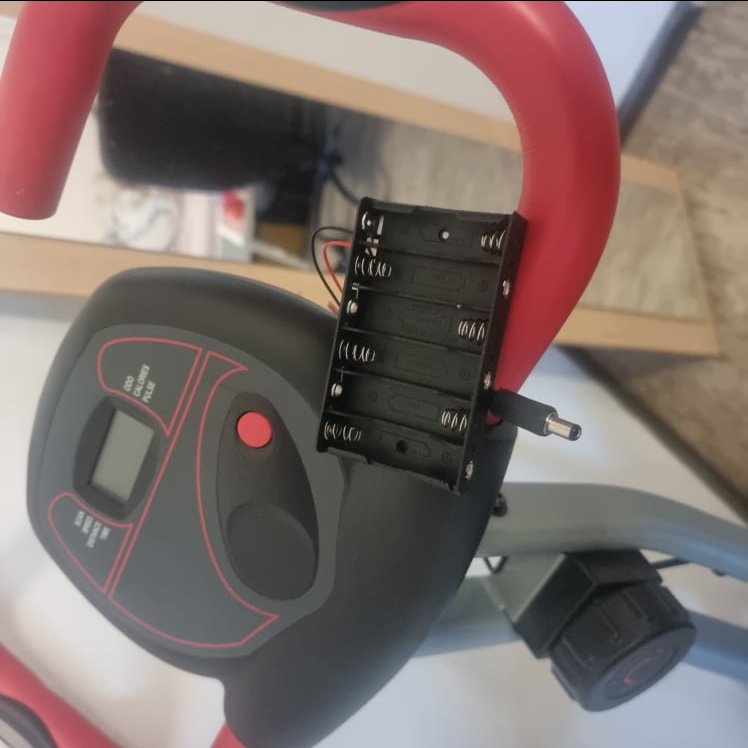BATTERY BOX: (315, 195, 529, 494)
